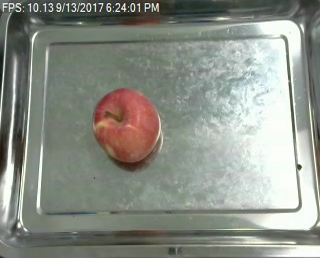Apple: (89, 84, 162, 166)
